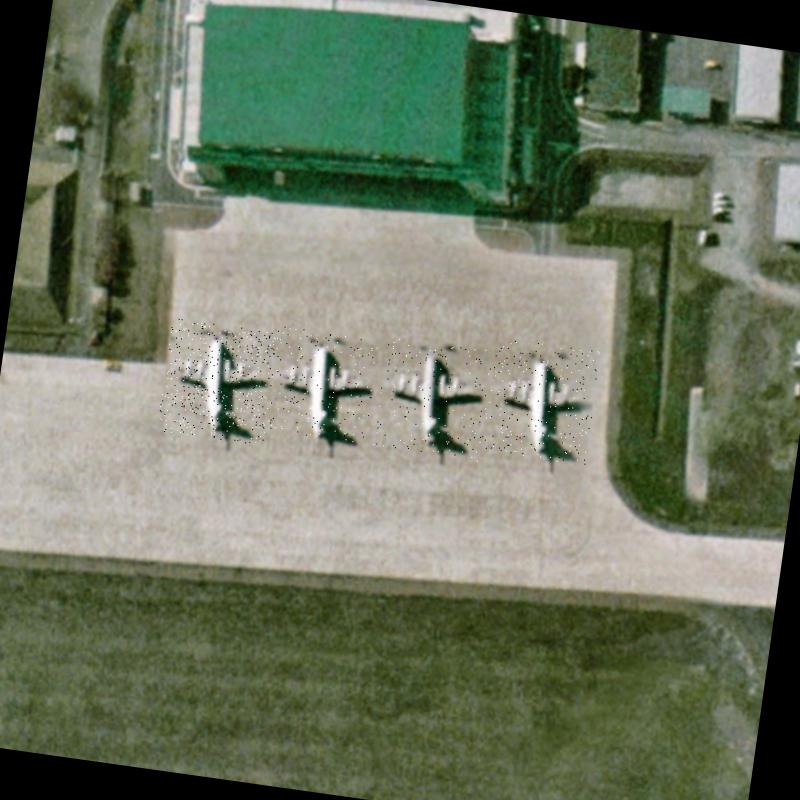A9: (373, 336, 499, 462), (156, 318, 278, 446), (484, 337, 600, 465), (262, 326, 380, 444)
